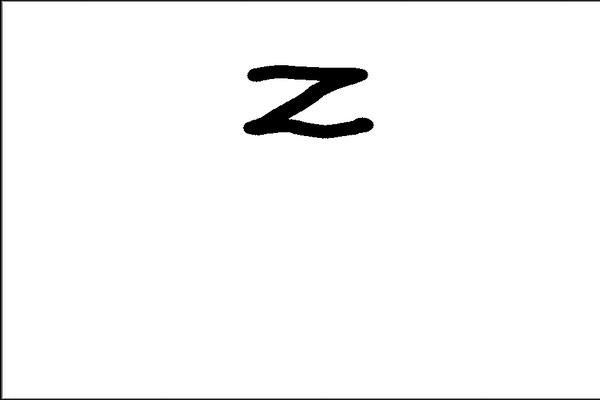Z: (237, 52, 377, 147)
